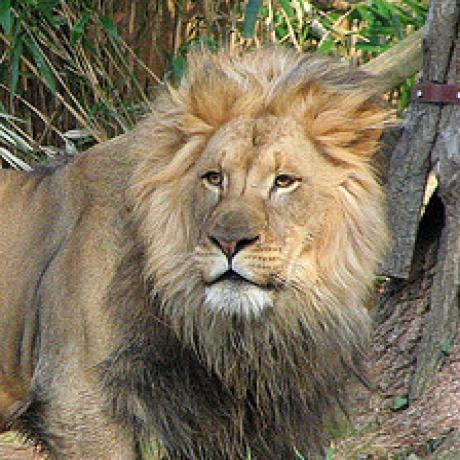Lion: (0, 42, 392, 460)
